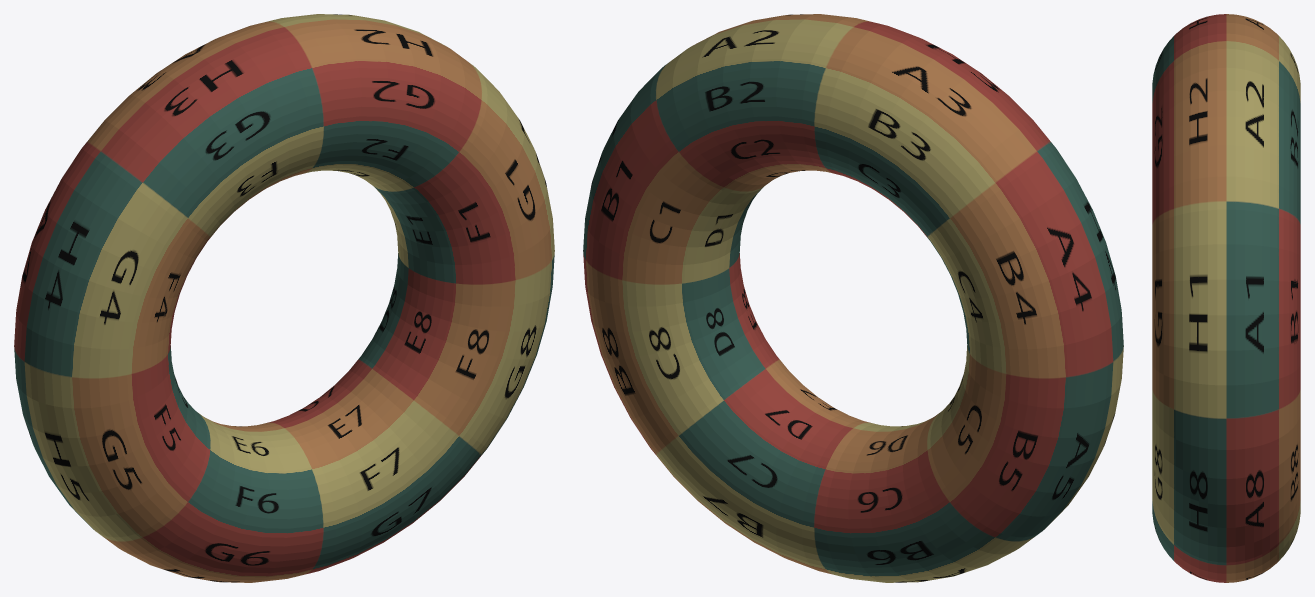
File: texture_torus_R15_r19.glb
The picture shows the model from 3 angles, left to right: view 1: azimuth 30°, elevation 25°; view 2: azimuth 150°, elevation 25°; view 3: azimuth 270°, elevation 25°; orthographic projection. The views are drawn at different scales.
Parts seen in each view (by area): view 1: world; view 2: world; view 3: world.
Part boxes in pixels (bbox=[...]): world: bbox=[14, 14, 554, 582]; world: bbox=[583, 14, 1123, 582]; world: bbox=[1152, 14, 1300, 582].
Bounding box in the file's own units: 27.07 × 27.01 × 7.05.
Materials: 1 (1 with a texture image).
